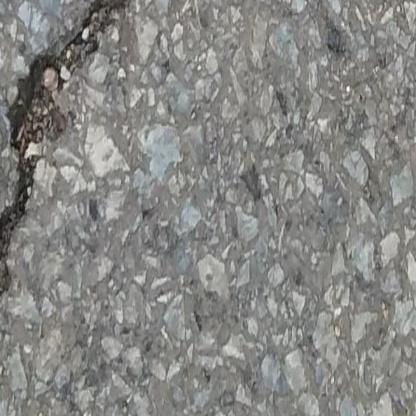Cracks: (0, 0, 150, 297)
